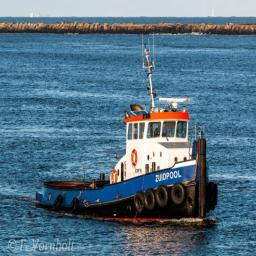tugboat: (36, 94, 220, 228)
